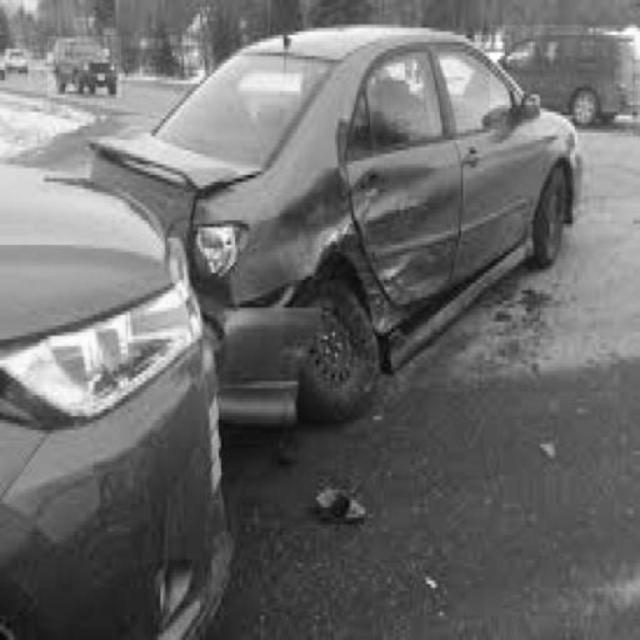accident: (2, 33, 584, 614)
vehicle: (489, 25, 633, 135), (48, 37, 121, 98)
